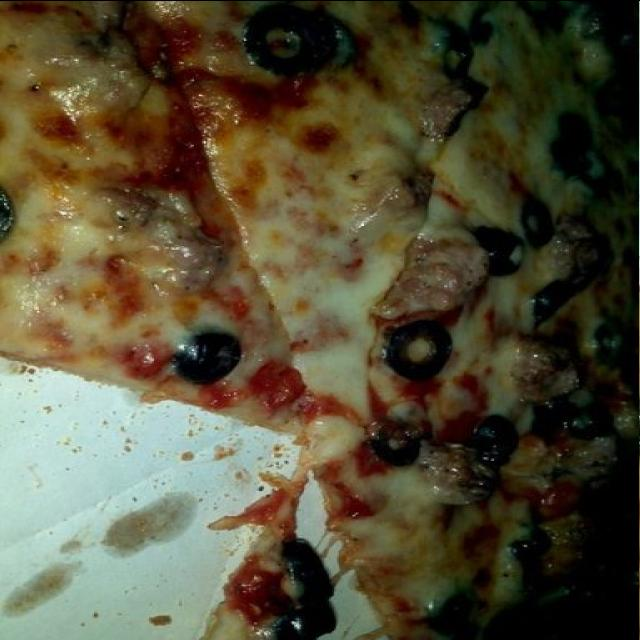olive: (300, 2, 366, 104), (306, 565, 392, 632), (120, 138, 182, 226), (189, 256, 250, 319), (34, 192, 110, 242), (48, 311, 108, 372), (398, 257, 466, 306), (47, 464, 87, 527), (220, 172, 268, 216), (117, 367, 167, 409), (164, 552, 196, 616), (87, 396, 117, 444)
pizza: (0, 0, 639, 640)
